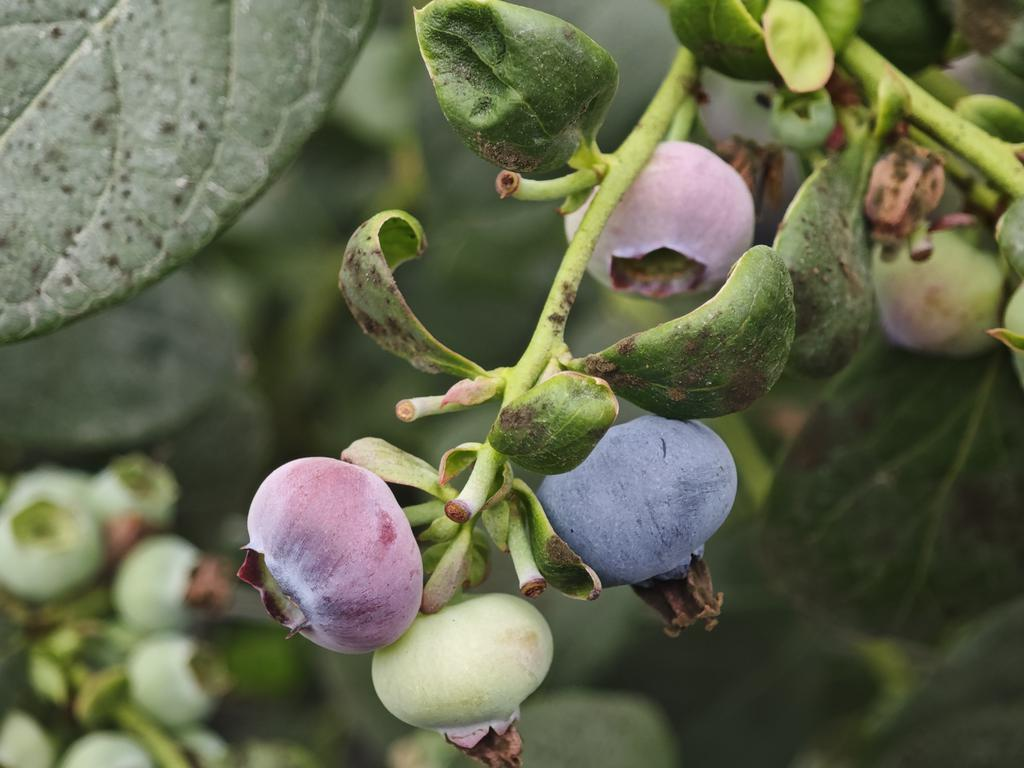RipeBlueBerry: (537, 413, 778, 621), (567, 132, 784, 308)
Semi-RipeBlueBerry: (228, 449, 432, 658)
UnripeBlueBerry: (349, 582, 586, 736)
